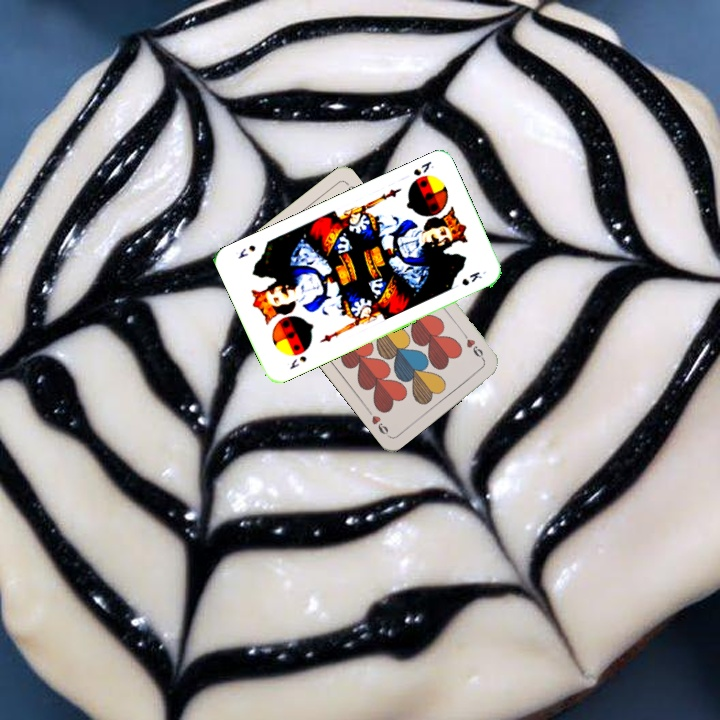H9: (458, 328, 487, 363)
SK: (409, 157, 437, 178), (286, 352, 309, 372)
